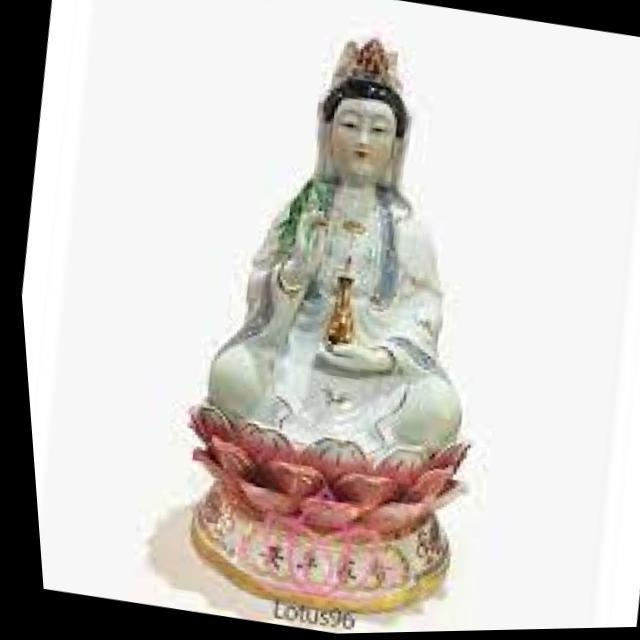Guan Yin: (137, 8, 542, 574)
